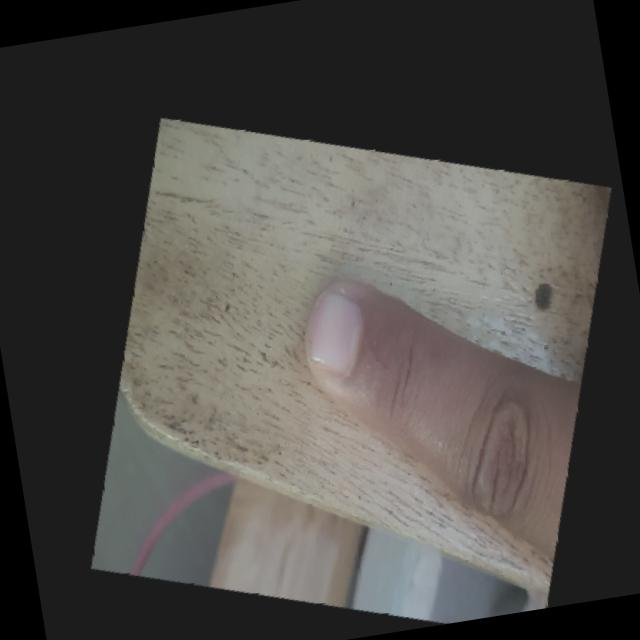Nail: (307, 291, 359, 375)
